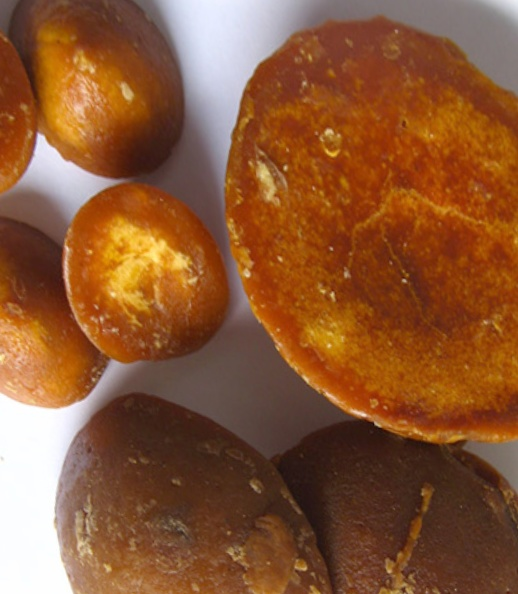hakuru: (199, 0, 518, 469), (29, 374, 347, 594), (252, 401, 518, 594), (44, 168, 234, 383), (5, 0, 196, 191), (0, 198, 105, 417), (0, 0, 49, 213)
